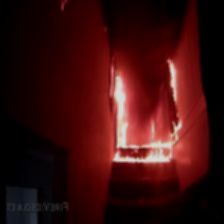fire: (104, 54, 179, 162)
